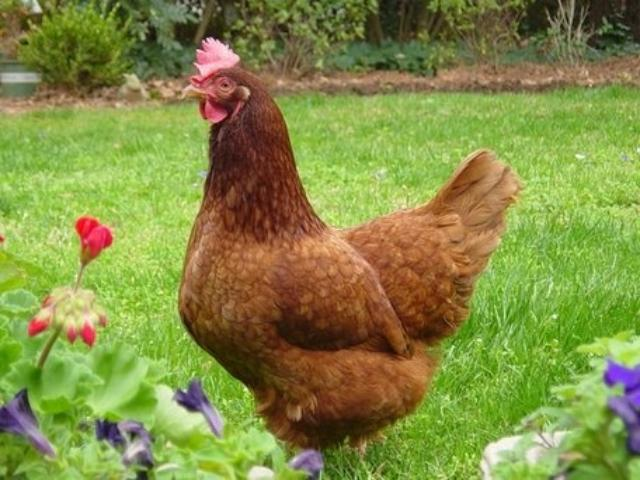Chicken: (182, 37, 520, 452)
